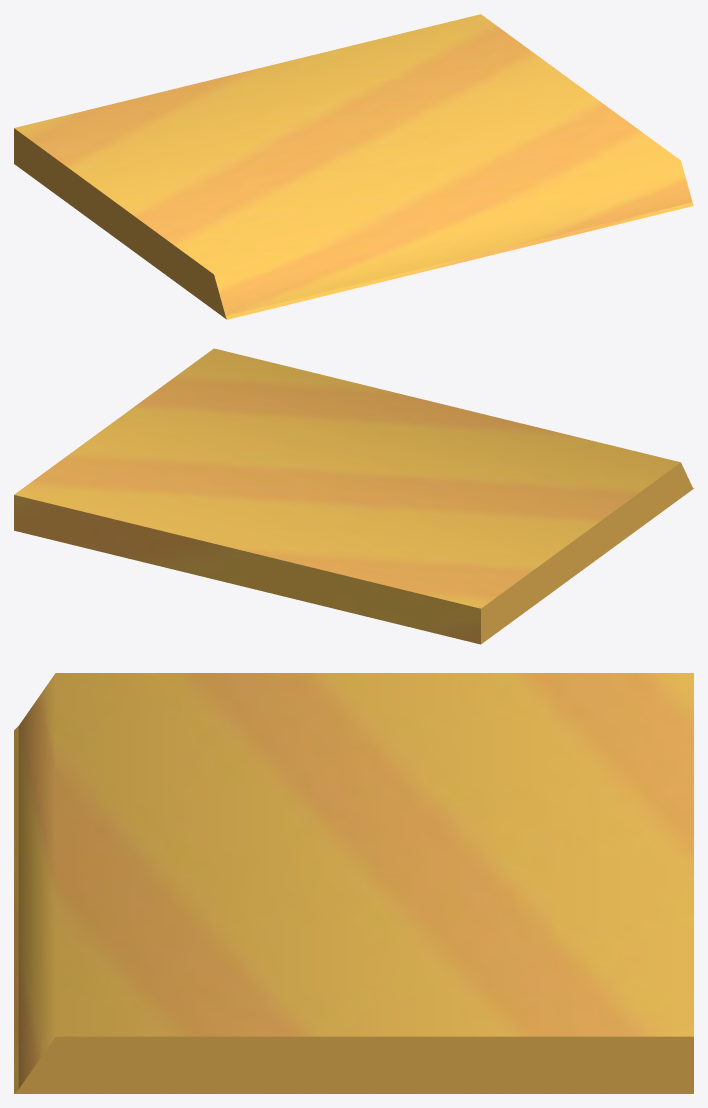
3 renders of one model, top to bottom at view 1: azimuth 30°, elevation 25°; view 2: azimuth 150°, elevation 25°; view 3: azimuth 270°, elevation 25°, orthographic. The views are drawn at different scales.
Parts seen in each view (by area): view 1: di2; view 2: di2; view 3: di2.
Part boxes in pixels (x1,y1,x2,y2): di2: (14, 14, 693, 319); di2: (14, 348, 693, 644); di2: (14, 673, 693, 1093).
Bounding box in the file's own units: 538 × 39.46 × 425.
